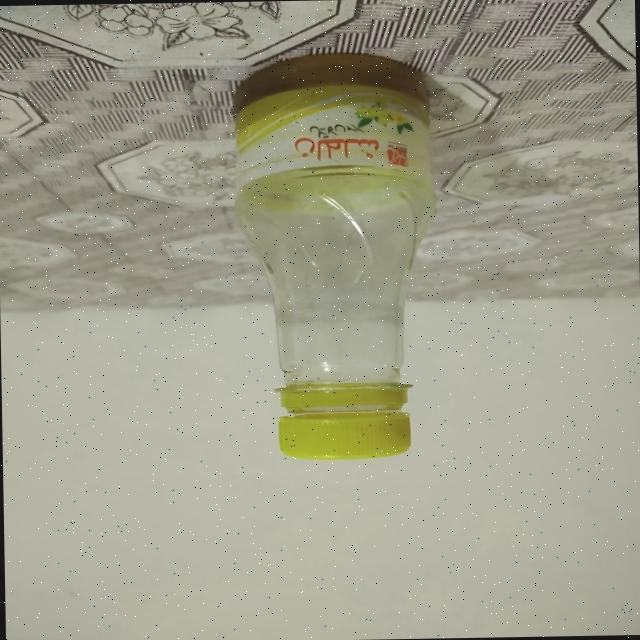bottle: (202, 46, 459, 464)
cap: (269, 376, 413, 460)
label: (225, 56, 430, 194)
